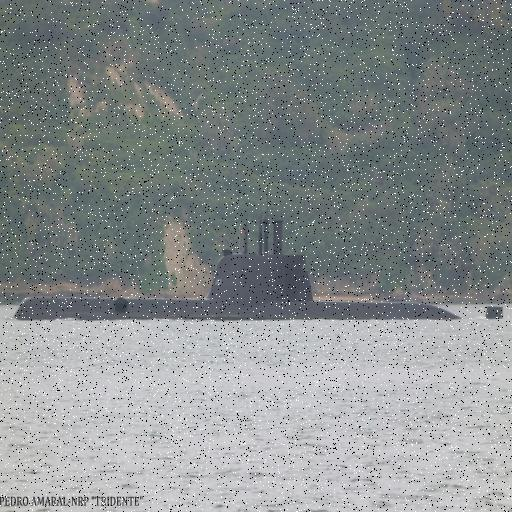submarine: (16, 220, 506, 322)
